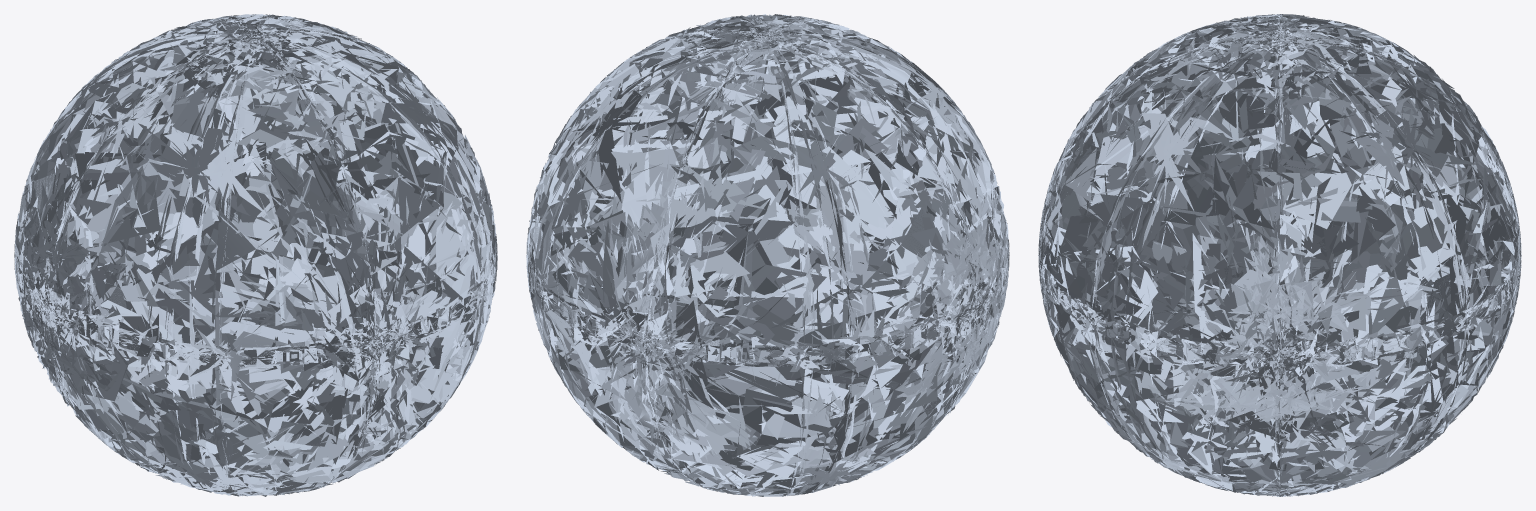
The picture shows the model from 3 angles, left to right: view 1: azimuth 30°, elevation 25°; view 2: azimuth 150°, elevation 25°; view 3: azimuth 270°, elevation 25°; orthographic projection.
Parts seen in each view (by area): view 1: 5-5-structural; view 2: 5-5-structural; view 3: 5-5-structural.
Part boxes in pixels (<box>): 5-5-structural: <box>14,14,497,496</box>; 5-5-structural: <box>526,14,1009,496</box>; 5-5-structural: <box>1038,14,1521,496</box>.
Size of the model in its own units: 2 by 2 by 2.
